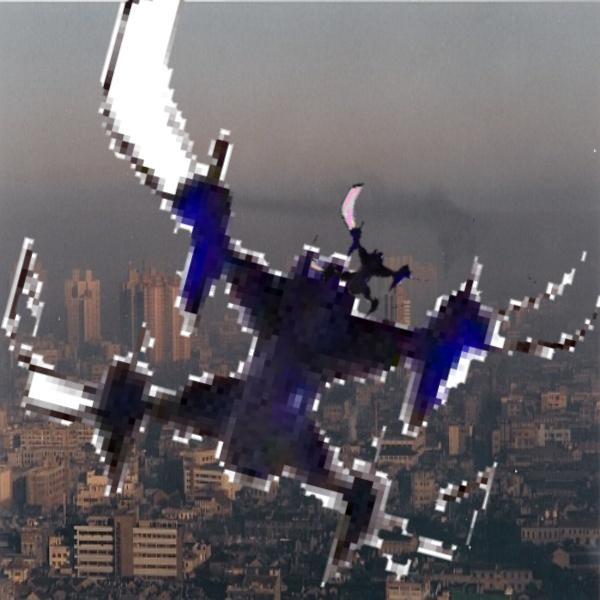drone: (307, 189, 447, 329)
